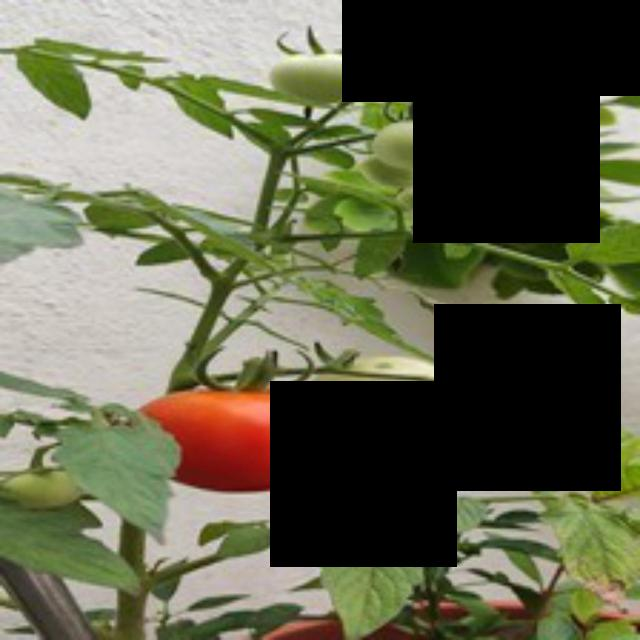tomato: (136, 395, 370, 488)
